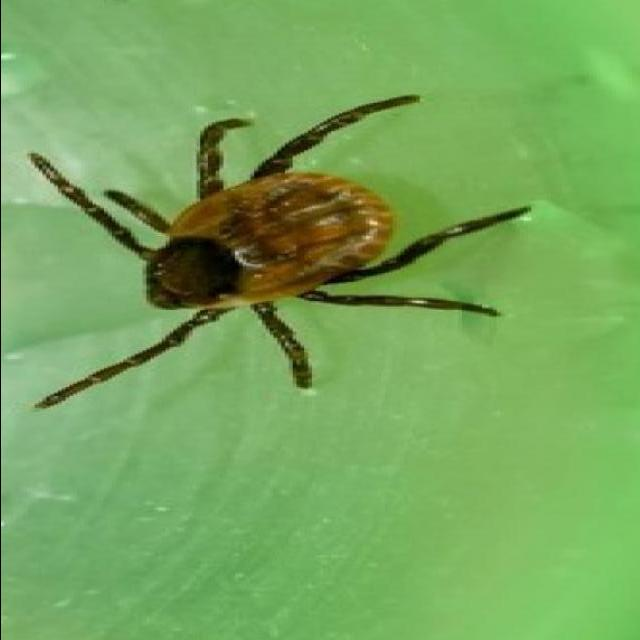Rhipicephalus Sanguineus-F: (34, 96, 523, 406)
